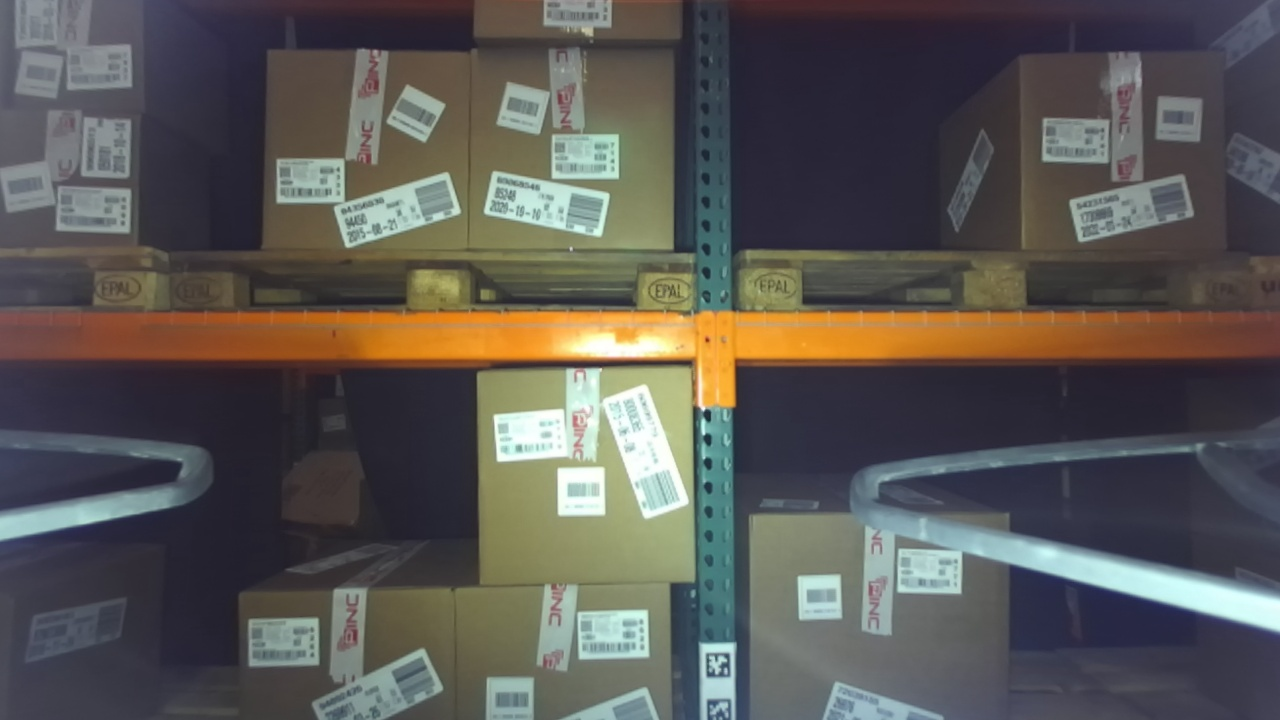box: (727, 497, 1036, 720), (462, 11, 714, 274), (458, 348, 707, 607), (251, 26, 495, 284), (1005, 29, 1239, 277), (442, 578, 697, 720), (2, 108, 165, 261), (1, 4, 159, 130)
